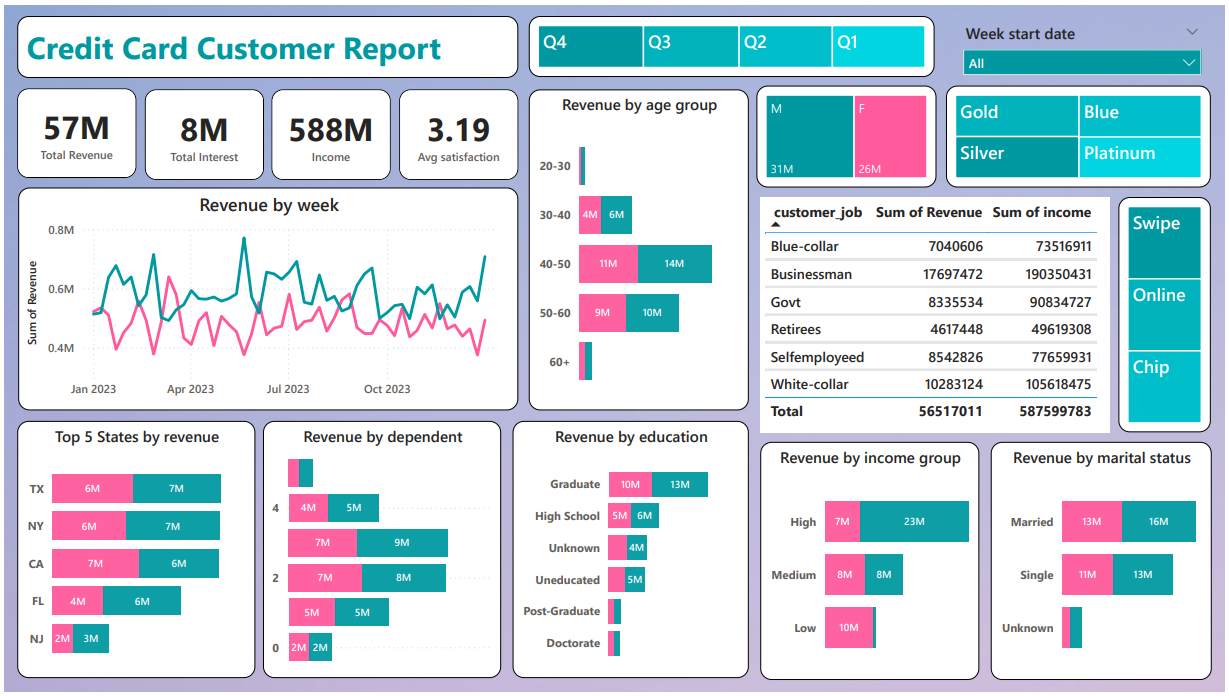

The dashboard page shown, as its layout file describes it:
{"tool":"powerbi","page":{"name":"CC Customer","canvas":[1280,720],"ordinal":1},"visuals":[{"type":"textbox","box":[12.5,11.2,526.2,65],"z":0},{"type":"barChart","title":"Revenue by income group","fields":{"Y":["Sum(public cc_detail.Revenue)"],"Category":["public cust_detail.IncomeGroup"],"Series":["public cust_detail.gender"]},"box":[792.5,457.5,230,250],"z":1000},{"type":"tableEx","fields":{"Values":["public cust_detail.customer_job","Sum(public cc_detail.Revenue)","Sum(public cust_detail.income)"]},"box":[792.5,201.2,367.5,246.2],"z":2000},{"type":"cardVisual","title":"Total Amount","fields":{"Data":["Sum(public cust_detail.income)"]},"box":[280.3,87.5,125,95],"z":3000},{"type":"cardVisual","title":"Total Interest","fields":{"Data":["Sum(public cc_detail.interest_earned)"]},"box":[146.8,87.5,125,95],"z":4000},{"type":"cardVisual","title":"Counts","fields":{"Data":["Avg(public cust_detail.cust_satisfaction_score)"]},"box":[413.8,87.5,125,95],"z":5000},{"type":"slicer","fields":{"Values":["public cc_detail.week_start_date"]},"box":[995.7,12.9,270,77.1],"z":6000},{"type":"treemap","fields":{"Group":["public cc_detail.qtr"],"Values":["Avg(public cust_detail.client_num)"]},"box":[550,11.2,426.2,63.8],"z":7000},{"type":"treemap","fields":{"Group":["public cc_detail.card_category"],"Values":["Avg(public cust_detail.client_num)"]},"box":[987.5,83.8,278.8,107.5],"z":8000},{"type":"cardVisual","title":"Total Interest","fields":{"Data":["Sum(public cc_detail.Revenue)"]},"box":[13.3,86.9,125,94.1],"z":9000},{"type":"lineChart","title":"Revenue by week","fields":{"Y":["Sum(public cc_detail.Revenue)"],"Series":["public cust_detail.gender"],"Category":["public cc_detail.week_start_date.Variation.Date Hierarchy.Year","public cc_detail.week_start_date.Variation.Date Hierarchy.Month","public cc_detail.week_start_date.Variation.Date Hierarchy.Day"]},"box":[13.8,191.2,525,233.8],"z":10000},{"type":"treemap","fields":{"Values":["Sum(public cc_detail.Revenue)"],"Group":["public cust_detail.gender"]},"box":[788.8,83.8,188.8,107.5],"z":11000},{"type":"barChart","title":"Revenue by age group","fields":{"Y":["Sum(public cc_detail.Revenue)"],"Category":["public cust_detail.AgeGroup"],"Series":["public cust_detail.gender"]},"box":[550,87.5,231.2,337.5],"z":12000},{"type":"barChart","title":"Revenue by dependent","fields":{"Y":["Sum(public cc_detail.Revenue)"],"Category":["public cust_detail.dependent_count"],"Series":["public cust_detail.gender"]},"box":[271.2,436.2,250,270],"z":13000},{"type":"barChart","title":"Revenue by education","fields":{"Y":["Sum(public cc_detail.Revenue)"],"Category":["public cust_detail.education_level"],"Series":["public cust_detail.gender"]},"box":[532.5,436.2,248.8,270],"z":14000},{"type":"barChart","title":"Top 5 States by revenue","fields":{"Y":["Sum(public cc_detail.Revenue)"],"Category":["public cust_detail.state_cd"],"Series":["public cust_detail.gender"]},"box":[12.5,436.2,250,270],"z":15000},{"type":"barChart","title":"Revenue by marital status","fields":{"Y":["Sum(public cc_detail.Revenue)"],"Category":["public cust_detail.marital_status"],"Series":["public cust_detail.gender"]},"box":[1035,457.5,232,250],"z":16000},{"type":"treemap","fields":{"Group":["public cc_detail.use_chip"],"Values":["Avg(public cust_detail.client_num)"]},"box":[1168.8,201.2,97.5,246.2],"z":17000}]}

Visuals, with their boxes in screenshot pixels (x1, y1, x2, y2), scaled from the page's 1280x720 canvas onto the 1229x696 screenshot:
textbox: locate(12, 11, 517, 74)
"Revenue by income group" barChart: locate(761, 442, 982, 684)
tableEx - public cust_detail.customer_job x Sum(public cc_detail.Revenue): locate(761, 194, 1114, 432)
"Total Amount" cardVisual: locate(269, 85, 389, 176)
"Total Interest" cardVisual: locate(141, 85, 261, 176)
"Counts" cardVisual: locate(397, 85, 517, 176)
slicer - public cc_detail.week_start_date: locate(956, 12, 1215, 87)
treemap - public cc_detail.qtr x Avg(public cust_detail.client_num): locate(528, 11, 937, 72)
treemap - public cc_detail.card_category x Avg(public cust_detail.client_num): locate(948, 81, 1216, 185)
"Total Interest" cardVisual: locate(13, 84, 133, 175)
"Revenue by week" lineChart: locate(13, 185, 517, 411)
treemap - Sum(public cc_detail.Revenue) x public cust_detail.gender: locate(757, 81, 939, 185)
"Revenue by age group" barChart: locate(528, 85, 750, 411)
"Revenue by dependent" barChart: locate(260, 422, 500, 683)
"Revenue by education" barChart: locate(511, 422, 750, 683)
"Top 5 States by revenue" barChart: locate(12, 422, 252, 683)
"Revenue by marital status" barChart: locate(994, 442, 1217, 684)
treemap - public cc_detail.use_chip x Avg(public cust_detail.client_num): locate(1122, 194, 1216, 432)
